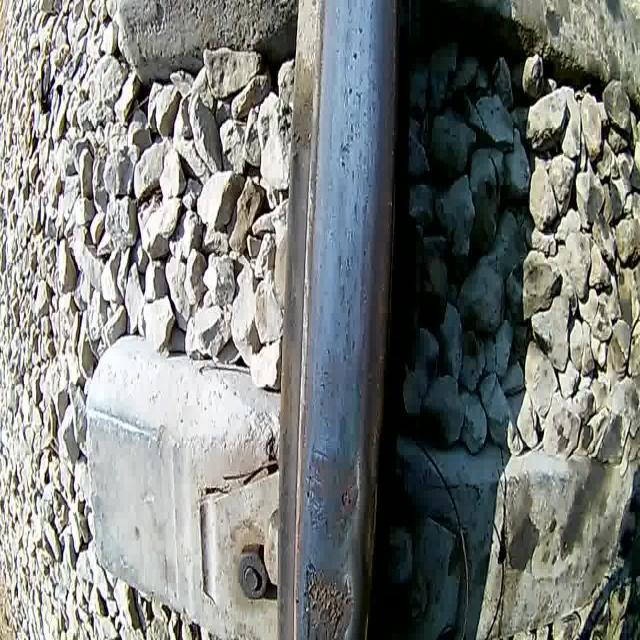Cracks: (307, 437, 332, 540)
Spallings: (301, 556, 356, 640), (336, 474, 358, 535)
Squats: (305, 414, 364, 546), (315, 336, 367, 448), (296, 551, 361, 640)
